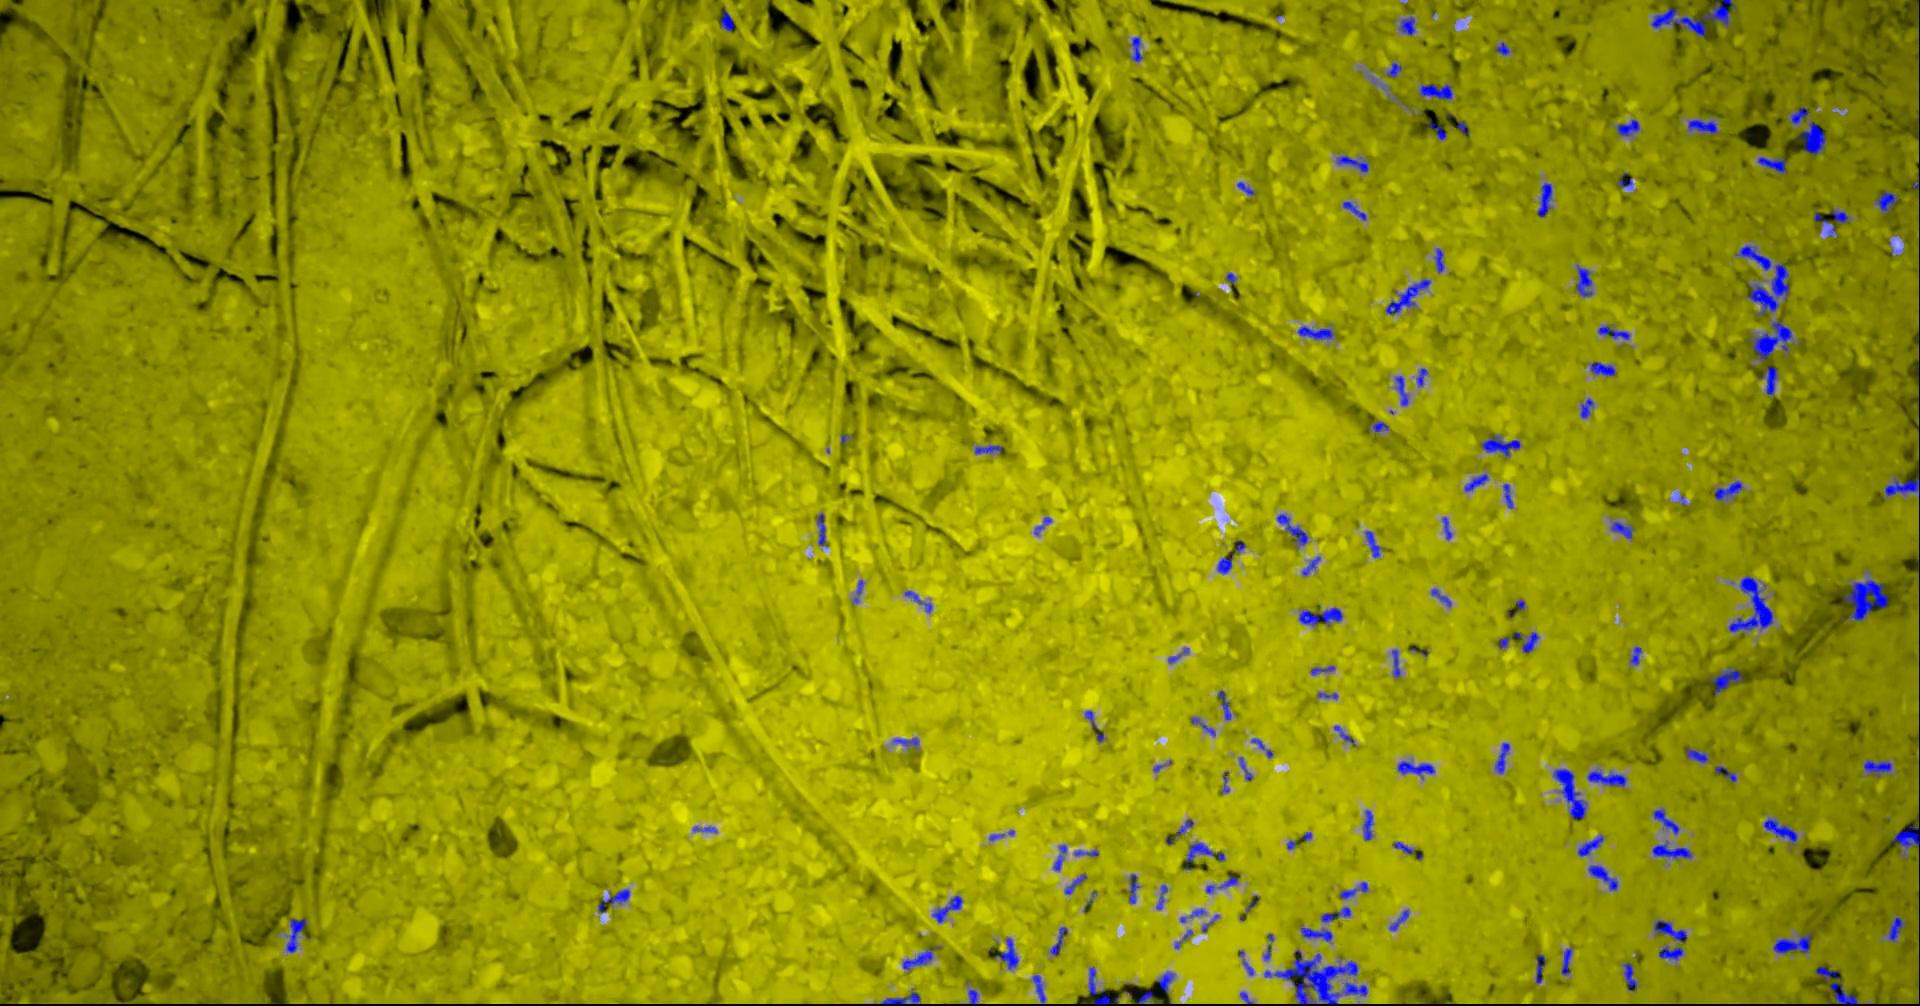ant: (1650, 0, 1736, 36), (1728, 575, 1771, 631), (1840, 579, 1888, 621), (1749, 320, 1792, 361), (1552, 768, 1585, 818), (1815, 967, 1857, 1005), (1385, 278, 1430, 314), (1088, 967, 1119, 1005), (1183, 842, 1224, 869), (1891, 810, 1919, 848), (1276, 513, 1308, 545), (1799, 121, 1826, 155), (1813, 208, 1848, 235), (1710, 667, 1742, 695), (1481, 434, 1519, 457), (1763, 818, 1797, 843), (902, 946, 940, 969), (931, 895, 963, 922), (1298, 607, 1342, 625), (597, 888, 629, 912), (994, 937, 1018, 969), (1587, 865, 1617, 890), (1773, 934, 1811, 953), (1651, 840, 1691, 857), (284, 918, 306, 951), (1653, 920, 1686, 941), (1397, 760, 1434, 779), (1653, 808, 1679, 835), (1884, 476, 1919, 495), (1586, 770, 1625, 786), (904, 589, 931, 612), (1757, 366, 1777, 396), (1713, 481, 1742, 500), (880, 991, 919, 1005), (1577, 835, 1603, 856), (1418, 83, 1451, 99), (1336, 155, 1368, 171), (1576, 264, 1592, 296), (1205, 876, 1237, 893), (1049, 926, 1067, 955), (1297, 325, 1333, 339), (1190, 716, 1215, 735), (1338, 882, 1368, 898), (1321, 906, 1350, 922), (1537, 182, 1550, 216), (1876, 191, 1897, 212), (1364, 530, 1380, 558), (1342, 201, 1366, 220), (1597, 325, 1629, 339), (1495, 742, 1509, 774), (1300, 927, 1332, 941), (1064, 874, 1086, 894), (1464, 473, 1487, 492), (1250, 738, 1272, 757), (1757, 156, 1785, 171), (1333, 725, 1354, 746), (1388, 909, 1408, 930), (1688, 119, 1717, 133), (1217, 690, 1230, 719), (1156, 970, 1173, 993), (1615, 119, 1639, 136), (1863, 760, 1891, 774), (1031, 974, 1045, 1002), (1888, 916, 1903, 941), (1610, 521, 1632, 539), (1430, 588, 1451, 606), (1589, 361, 1615, 375), (1623, 962, 1636, 991), (1498, 631, 1523, 647), (1658, 945, 1683, 960), (1302, 556, 1321, 575), (719, 8, 734, 30), (1396, 375, 1407, 405), (1128, 873, 1139, 903), (1790, 105, 1808, 124), (1429, 121, 1446, 140), (1034, 516, 1051, 535), (1175, 818, 1192, 837), (1053, 843, 1065, 870), (817, 513, 827, 546), (1521, 631, 1538, 652), (1685, 747, 1707, 762), (1714, 766, 1736, 781), (1238, 757, 1252, 780), (1363, 809, 1373, 840), (1535, 953, 1545, 983), (1399, 17, 1415, 36), (1392, 841, 1415, 854), (1156, 884, 1167, 909), (1561, 948, 1571, 976), (1236, 180, 1255, 194), (1131, 36, 1142, 61), (1432, 246, 1443, 272), (1580, 398, 1592, 418), (974, 445, 1002, 453), (1390, 649, 1399, 677), (853, 579, 863, 603), (1415, 367, 1427, 386), (1263, 934, 1272, 960), (1385, 62, 1401, 77), (1137, 989, 1152, 1005), (1217, 556, 1230, 573), (1503, 483, 1512, 508), (893, 737, 918, 746), (1310, 666, 1335, 674), (1617, 171, 1632, 185), (1368, 420, 1388, 431), (1443, 516, 1451, 539), (1495, 41, 1509, 55), (1630, 647, 1641, 666), (1073, 848, 1098, 856), (1455, 119, 1468, 133), (968, 989, 978, 1005), (692, 826, 716, 832)
